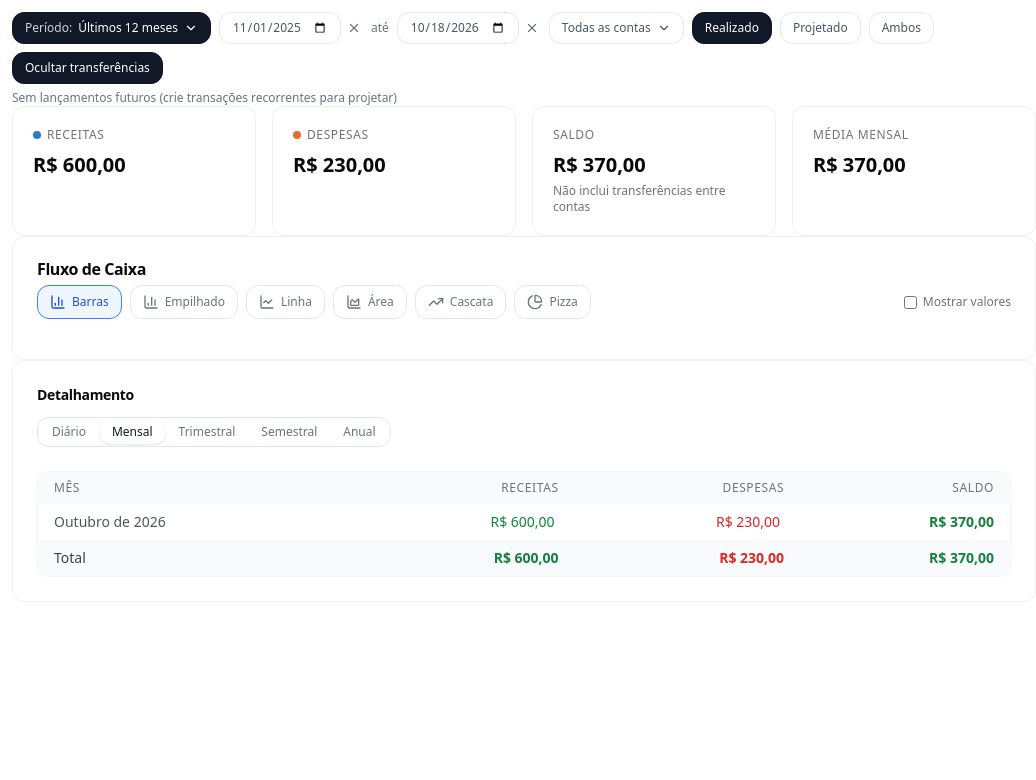
Test case: cards × total do detalhamento › em "Hoje", os cards somam só o que a tabela mostra
Click the button "Período: Últimos 12 meses": [112, 28] box 12,12 -> 211,44
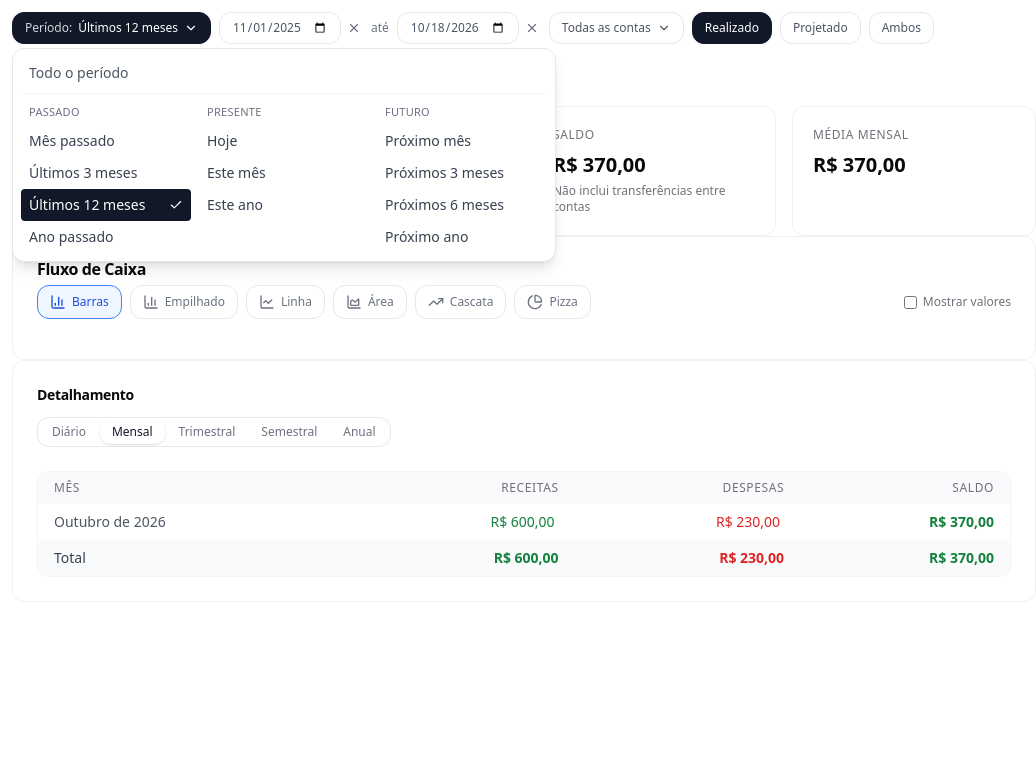
Click the button "Hoje": [284, 140] box 199,124 -> 369,156
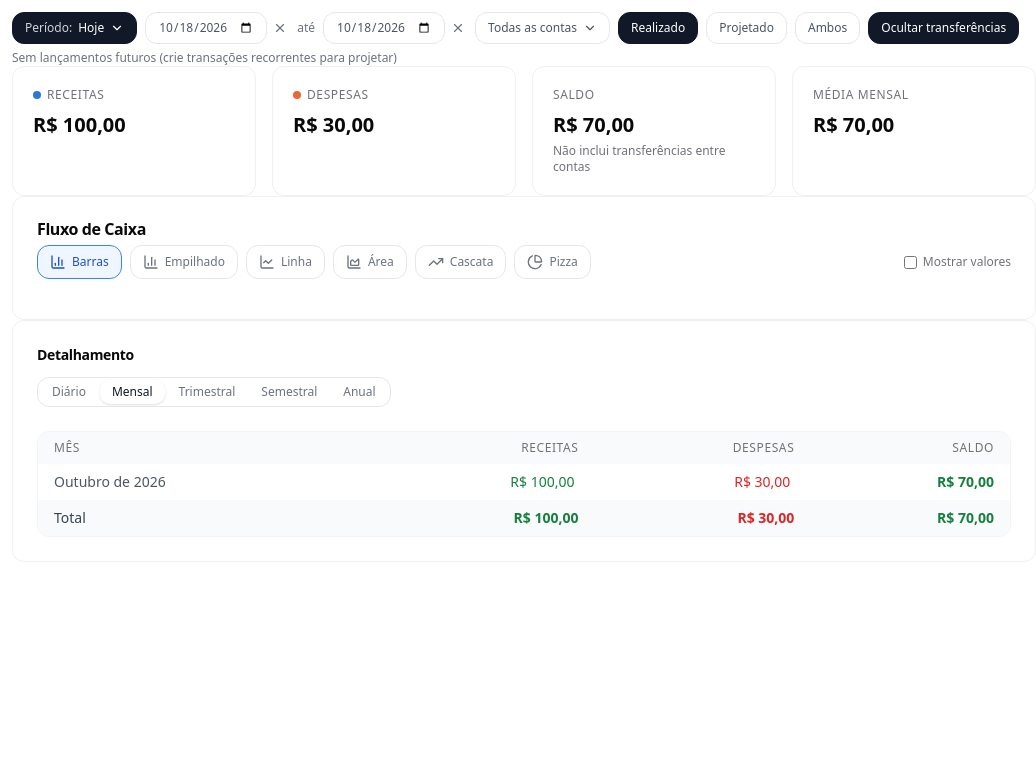
Expected: the text "R$ 100,00" is shown, 33,111 -> 126,138
